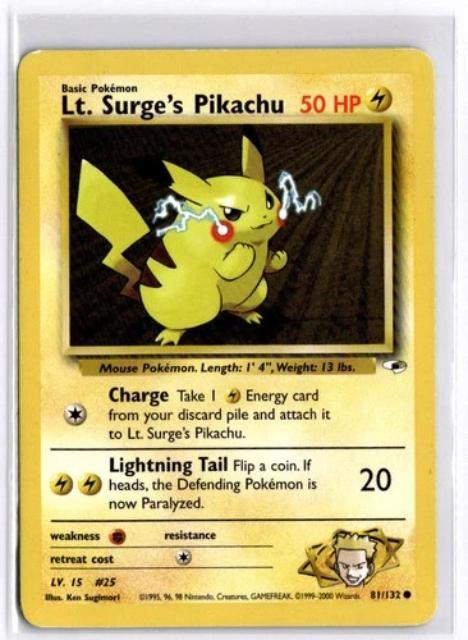Card: (15, 43, 442, 633)
Name: (56, 91, 292, 122)
